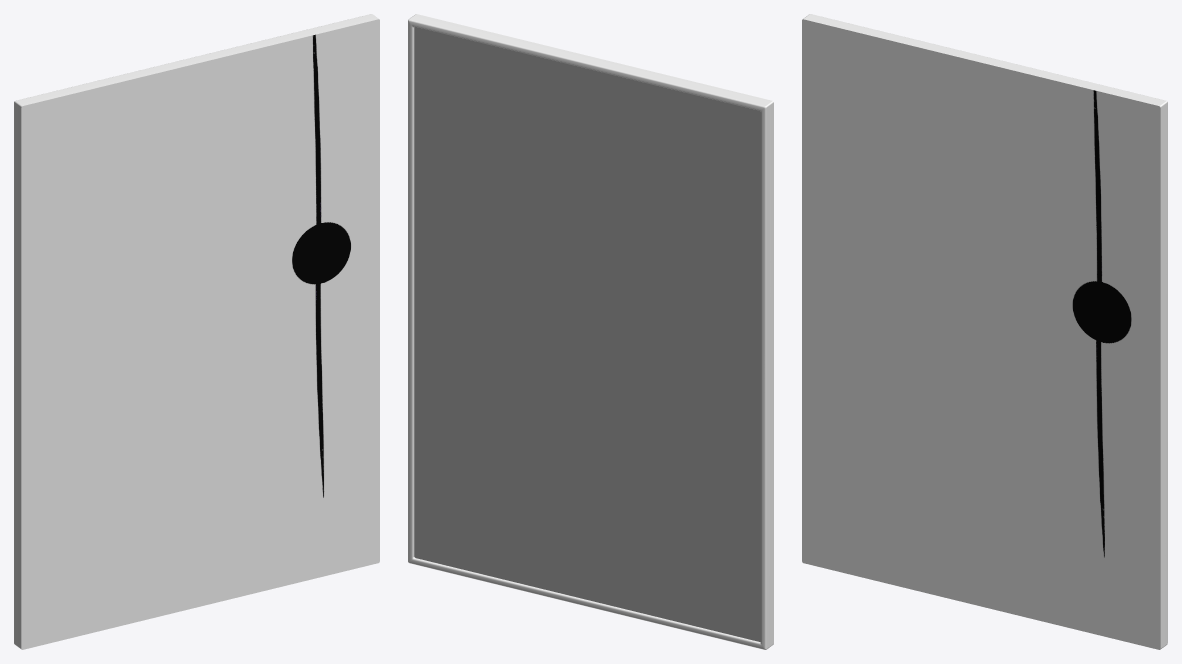
Rendered from MSH_ETC_Poster3.fbx.
The picture shows the model from 3 angles, left to right: view 1: azimuth 30°, elevation 25°; view 2: azimuth 150°, elevation 25°; view 3: azimuth 330°, elevation 25°; orthographic projection.
Parts seen in each view (by area): view 1: Frame_1; view 2: Glass, Frame_1; view 3: Frame_1.
Boxes of the visible parts, x1=… form: Frame_1: x1=14, y1=14, x2=379, y2=649; Glass: x1=414, y1=26, x2=761, y2=642; Frame_1: x1=408, y1=14, x2=773, y2=649; Frame_1: x1=802, y1=14, x2=1167, y2=649.
Size of the model in its own units: 63.14 by 91.52 by 2.43.
3 materials, 1 textured.
